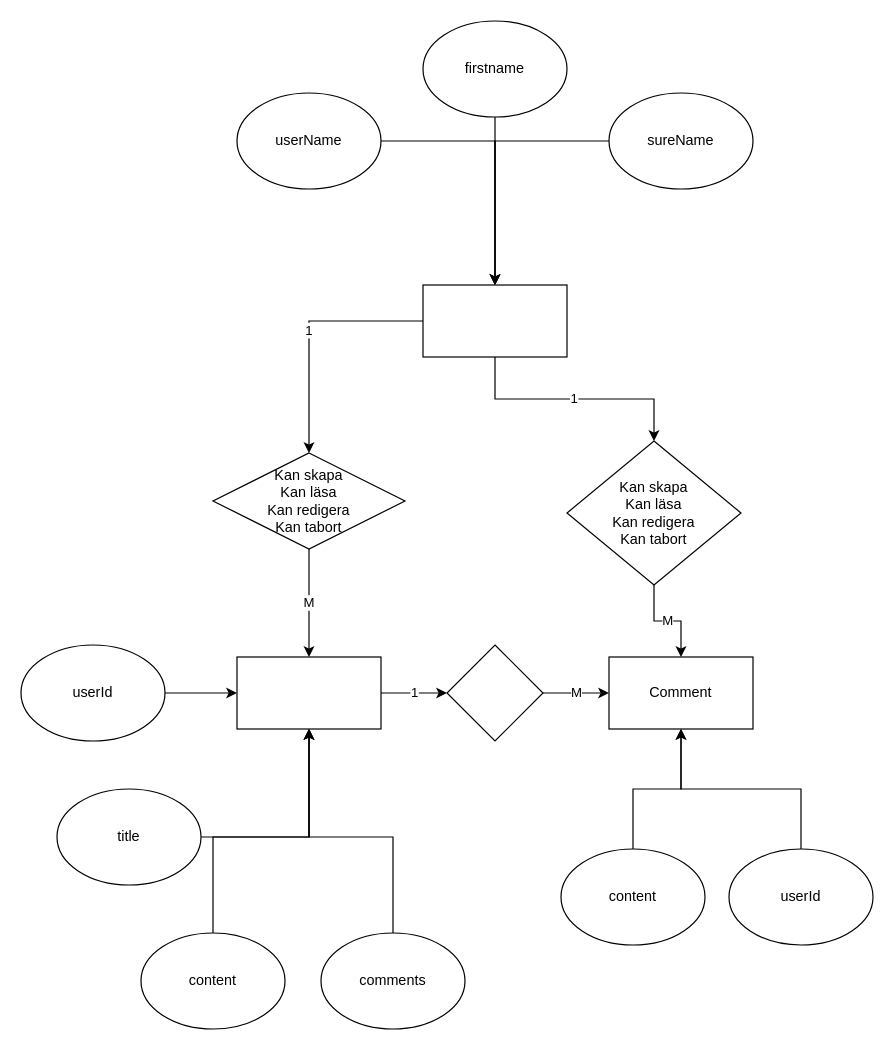
This 894x1050 diagram has some shape labels left out. Each missing label, with the box of its shape:
Kan innehålla: (446, 644, 543, 741)
Post: (236, 656, 381, 729)
User: (422, 284, 567, 357)
